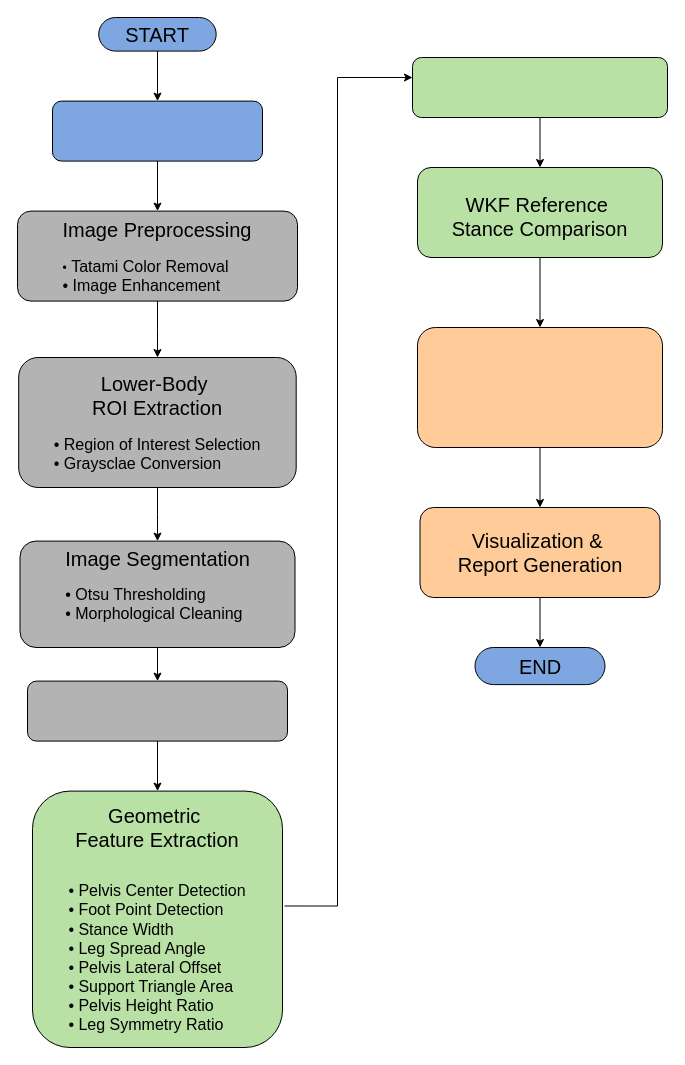
The diagram is 685 pixels wide and 1065 high, and some of its shapes have lost their labels. The centre of each missing label's shape, as x and y in pixels:
"Feedback Generation • Status Evaluation • Posture Recommendations" goes at [539,387].
"Input Karate Image" goes at [157,130].
"Silhouette Generation" goes at [157,710].
"Stability Analysis • Stability Index Calculation" goes at [540,87].
